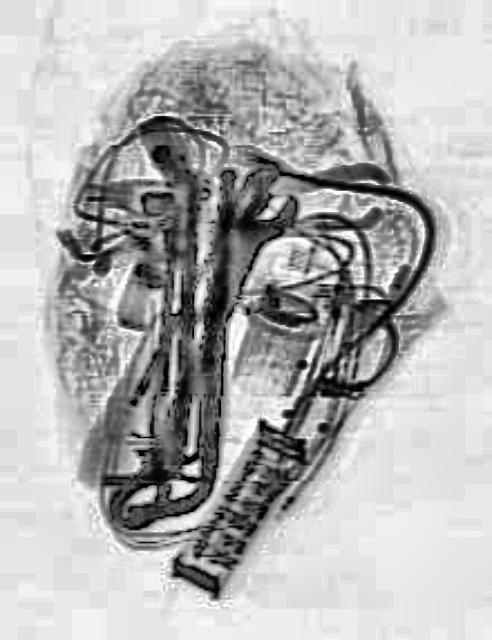Wrench: (179, 170, 301, 360)
